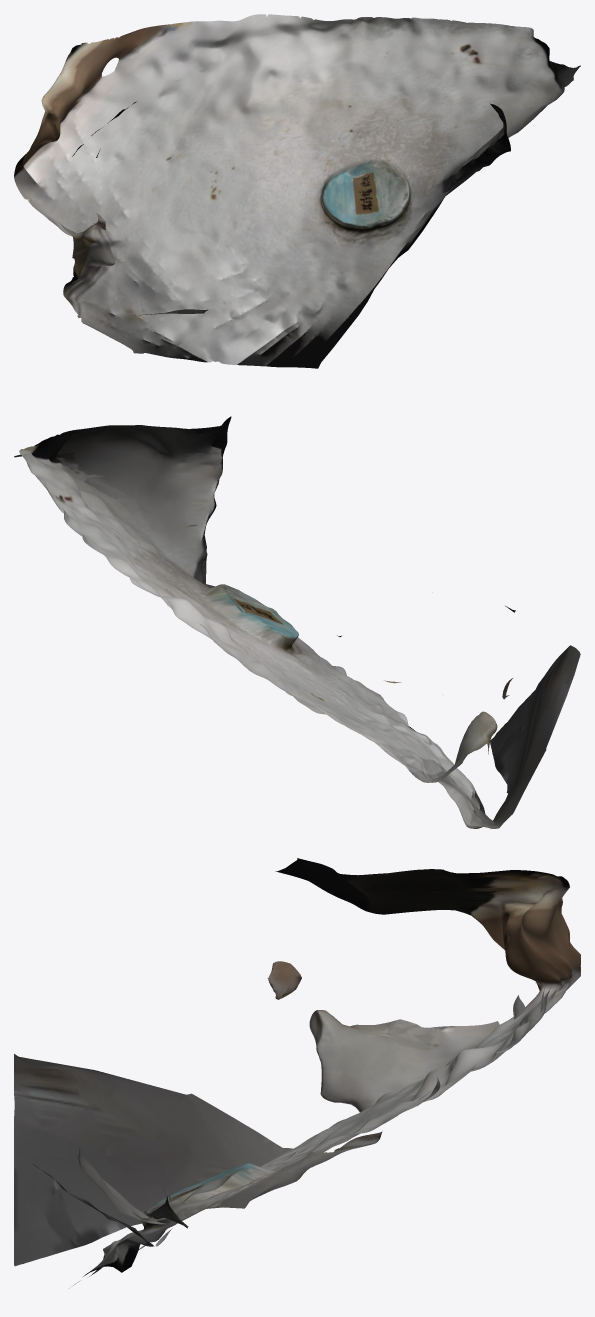
3 renders of one model, top to bottom at view 1: azimuth 30°, elevation 25°; view 2: azimuth 150°, elevation 25°; view 3: azimuth 270°, elevation 25°, orthographic. The views are drawn at different scales.
Size of the model in its own units: 0.9354 by 0.4393 by 0.6276.
Materials: 1 (1 with a texture image).
